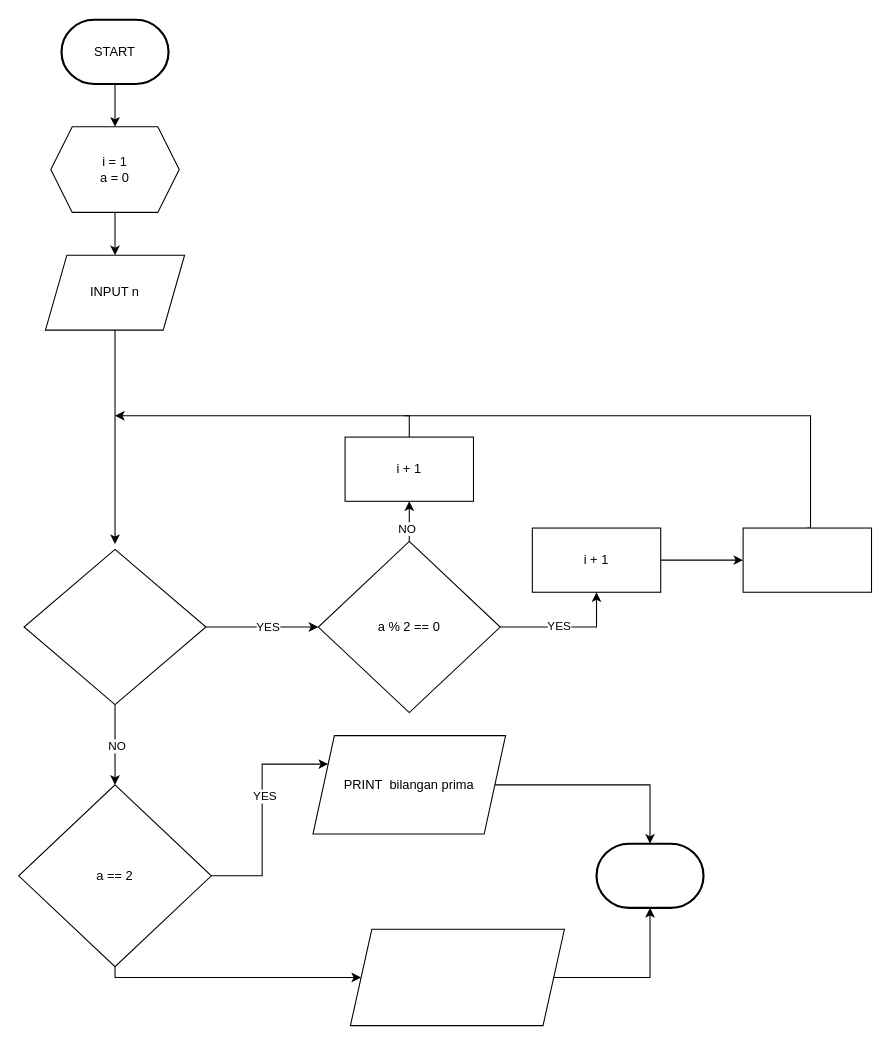
The diagram is 890 pixels wide and 1044 high, and some of its shapes have lost their labels. The centre of each missing label's shape, as x and y in pixels:
a + 1: the point at 807,559
END: the point at 649,875
i < n: the point at 114,626
PRINT bukan bilangan prima: the point at 456,977
